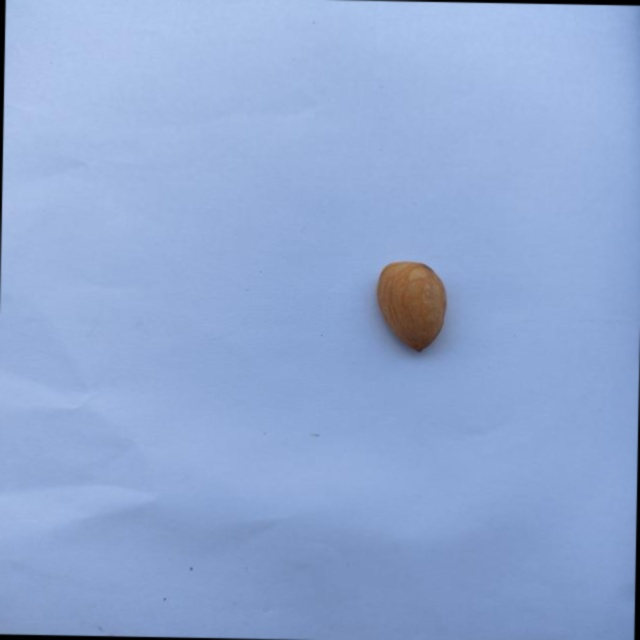grade2: (369, 258, 451, 355)
